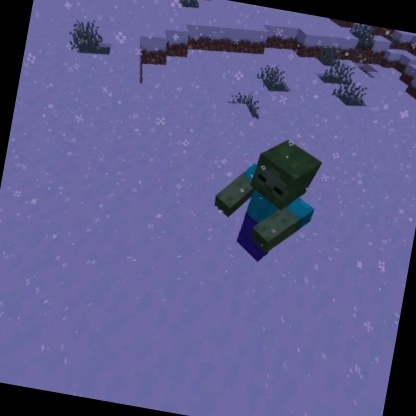zombie: (201, 124, 331, 276)
